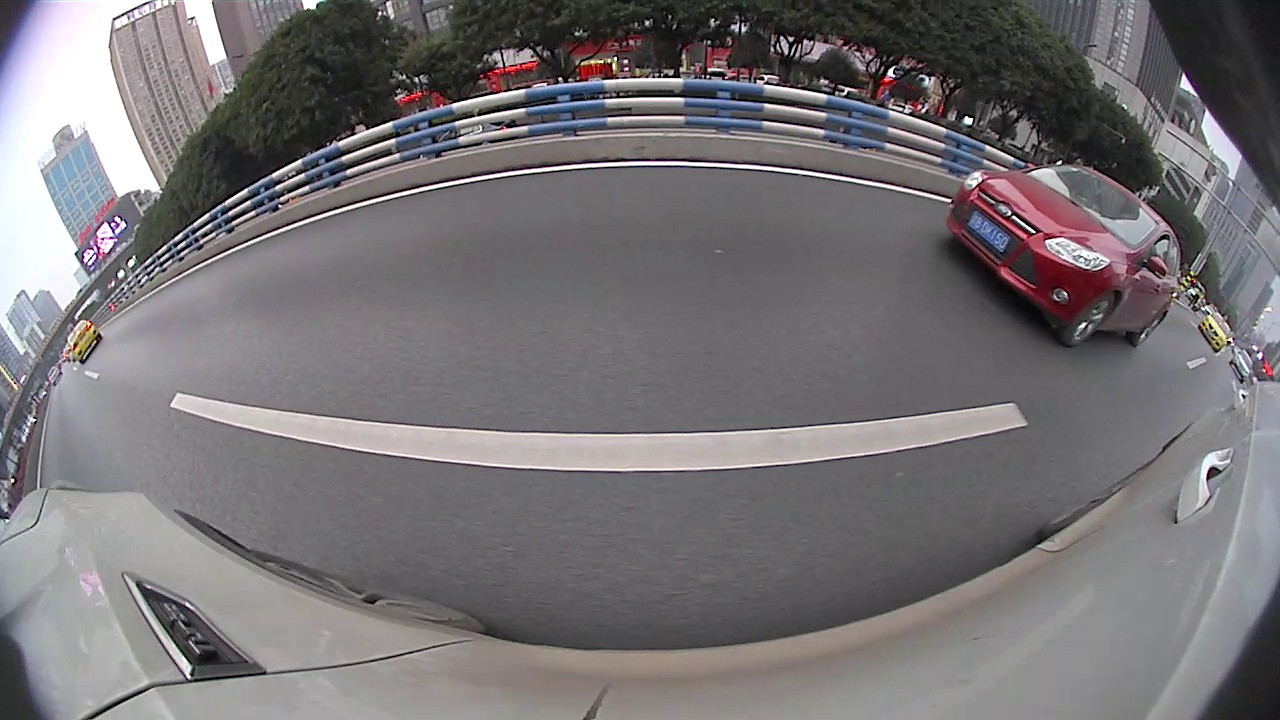car: (258, 135, 530, 287), (817, 156, 1041, 271), (633, 135, 796, 232), (1190, 333, 1277, 437), (1047, 208, 1121, 279), (780, 156, 846, 206), (507, 156, 580, 201)
front: (515, 192, 532, 228), (820, 191, 833, 222)
rear: (411, 213, 451, 276), (903, 215, 939, 256), (657, 188, 671, 227)
